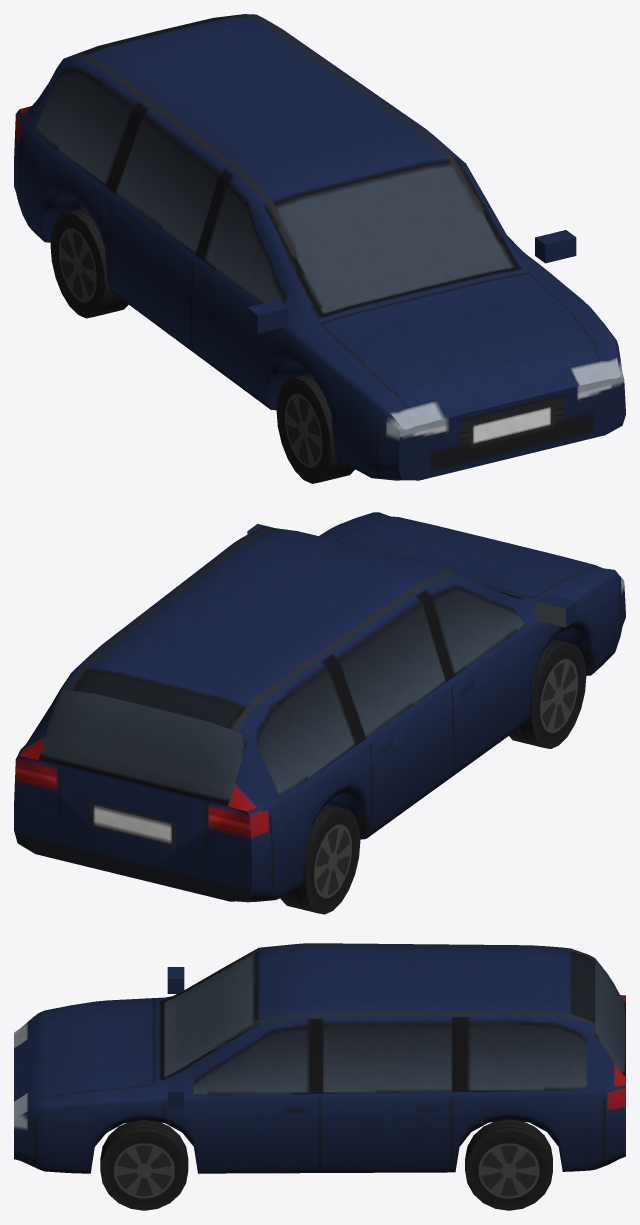
Rendered from SM_Morin_Auto_C_v2_BluScuro.fbx.
3 views of the same model, one above another, from view 1: azimuth 30°, elevation 25°; view 2: azimuth 150°, elevation 25°; view 3: azimuth 270°, elevation 25° (orthographic). The views are drawn at different scales.
Visible parts, largest first — view 1: SM_Morin_Auto_C_v2_BluScuro; view 2: SM_Morin_Auto_C_v2_BluScuro; view 3: SM_Morin_Auto_C_v2_BluScuro.
Part boxes in pixels (x1,y1,x2,y2): SM_Morin_Auto_C_v2_BluScuro: (14,14,625,483); SM_Morin_Auto_C_v2_BluScuro: (14,512,625,914); SM_Morin_Auto_C_v2_BluScuro: (14,943,625,1210).
Bounding box in the file's own units: 216 × 445 × 147.
Materials: 1 (1 with a texture image).
